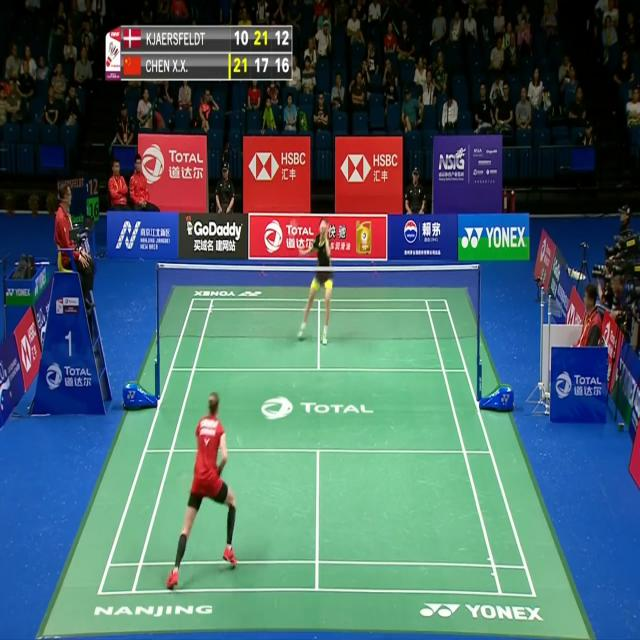Player1: (162, 380, 240, 600)
Player2: (292, 205, 342, 358)
